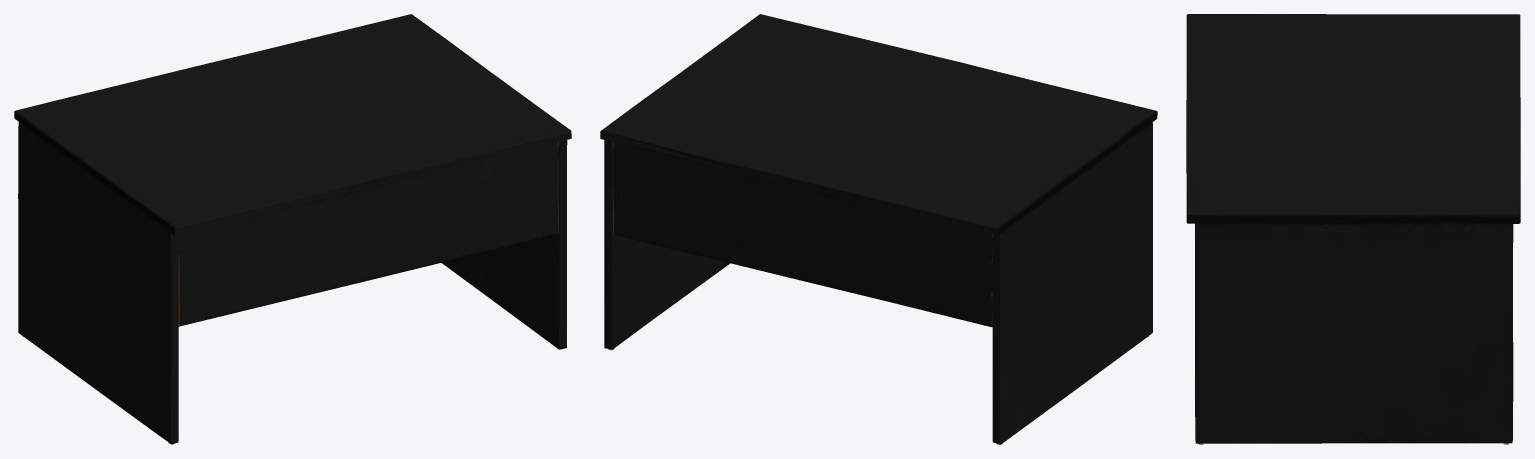
The picture shows the model from 3 angles, left to right: view 1: azimuth 30°, elevation 25°; view 2: azimuth 150°, elevation 25°; view 3: azimuth 270°, elevation 25°; orthographic projection. The views are drawn at different scales.
Visible parts, largest first — view 1: 107a8c3e-add5-43ad-89b9-ebab7ab0637a; view 2: 107a8c3e-add5-43ad-89b9-ebab7ab0637a; view 3: 107a8c3e-add5-43ad-89b9-ebab7ab0637a.
Boxes of the visible parts, left/top/right/bottom form: 107a8c3e-add5-43ad-89b9-ebab7ab0637a: left=14, top=14, right=571, bottom=444; 107a8c3e-add5-43ad-89b9-ebab7ab0637a: left=600, top=14, right=1157, bottom=444; 107a8c3e-add5-43ad-89b9-ebab7ab0637a: left=1186, top=14, right=1520, bottom=444.
Bounding box in the file's own units: 0.9 × 0.4801 × 0.63.
1 material, 1 textured.
